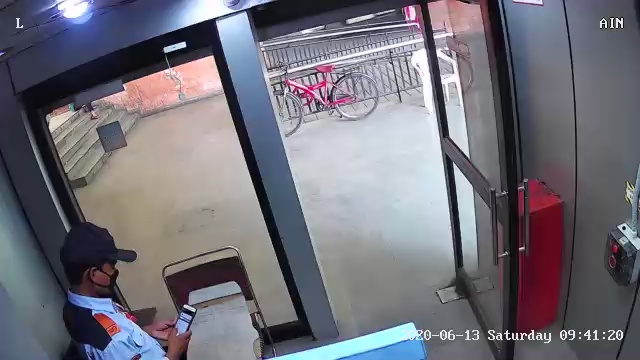open: (407, 2, 552, 357)
